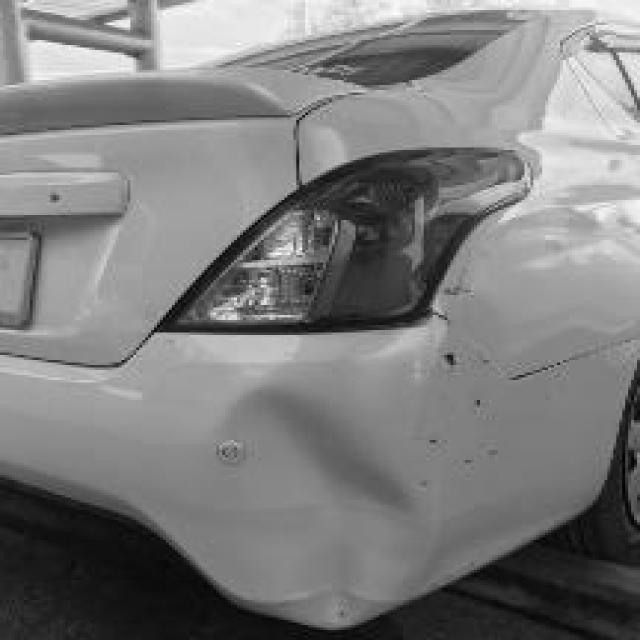Bumper: (100, 310, 531, 631)
